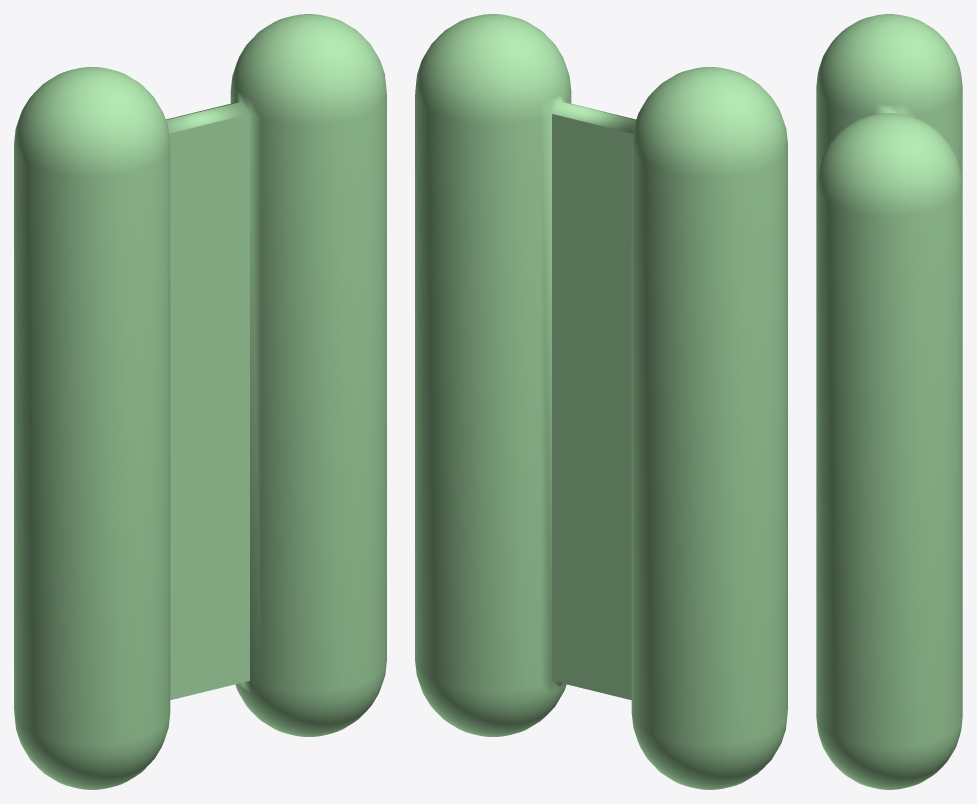
File: ProjectBoost_BonusItem_LifeSupport.fbx
3 renders of one model, left to right at view 1: azimuth 30°, elevation 25°; view 2: azimuth 150°, elevation 25°; view 3: azimuth 270°, elevation 25°, orthographic. The views are drawn at different scales.
Parts seen in each view (by area): view 1: LifeSupport_Item; view 2: LifeSupport_Item; view 3: LifeSupport_Item.
Part boxes in pixels (x1,y1,x2,y2): LifeSupport_Item: [14, 14, 386, 789]; LifeSupport_Item: [415, 14, 787, 789]; LifeSupport_Item: [816, 14, 962, 789].
Bounding box in the file's own units: 130 × 250 × 50.
